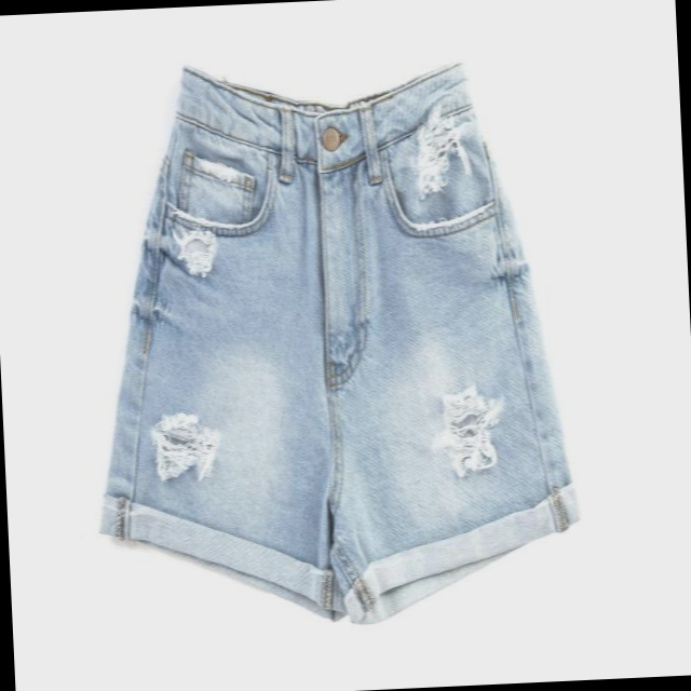Shorts: (72, 17, 605, 651)
